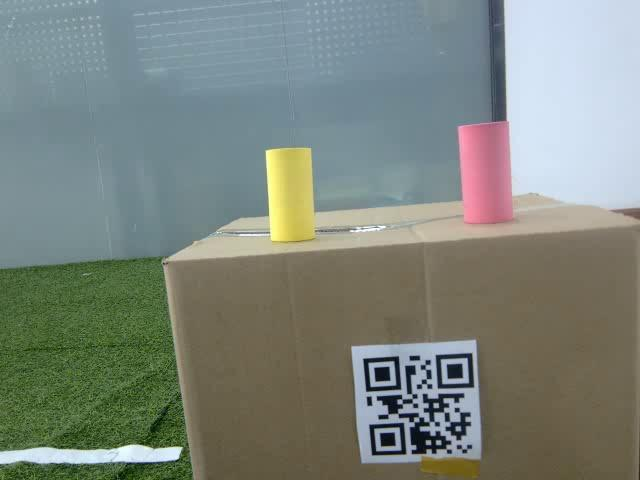red_cylinder: (447, 120, 516, 227)
yellow_cylinder: (263, 144, 317, 245)
